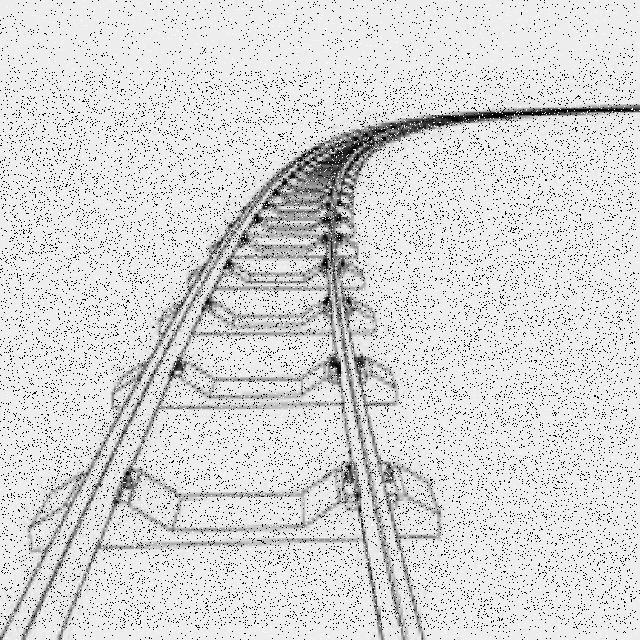rail: (5, 94, 640, 640)
